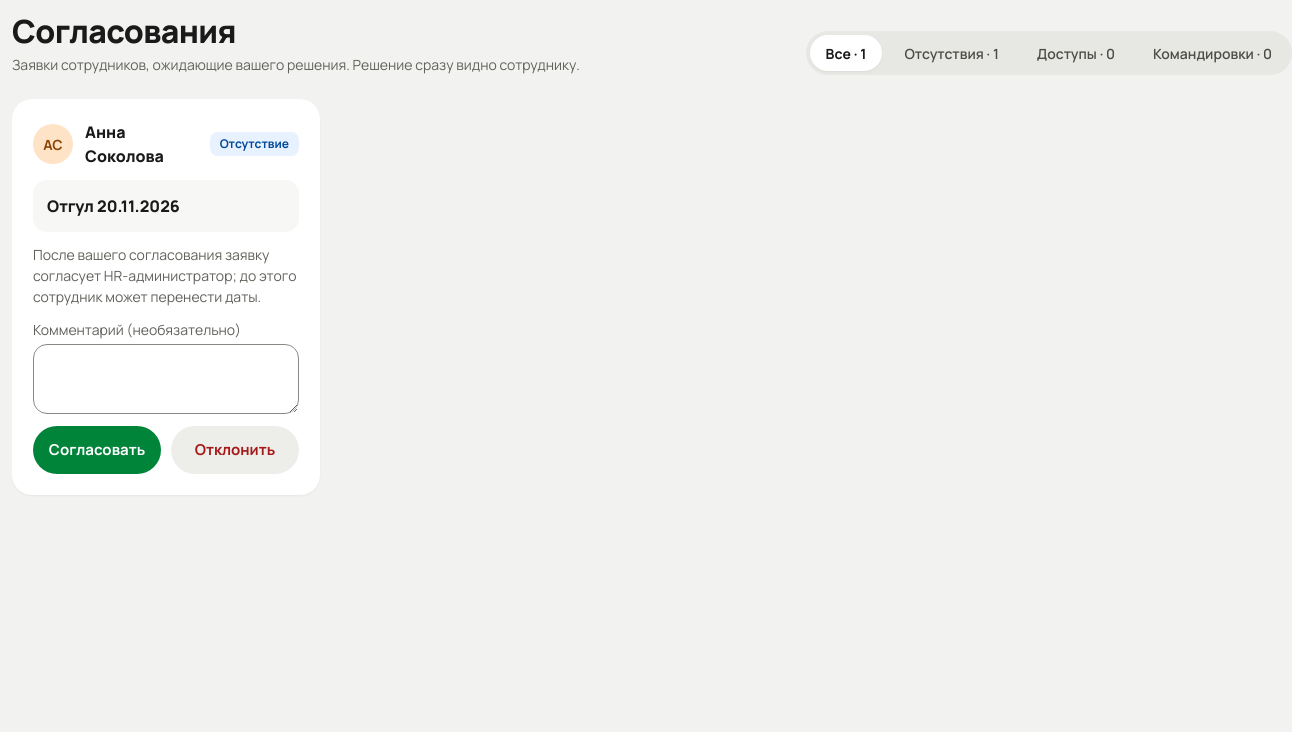
Scenario: S3 step 8: manager approvals page › S3: a decision on an already decided request is a 409 shown to the lead
The image size is (1292, 732).
Click the button "Согласовать" at x=97, y=450, box [33,426,161,474]
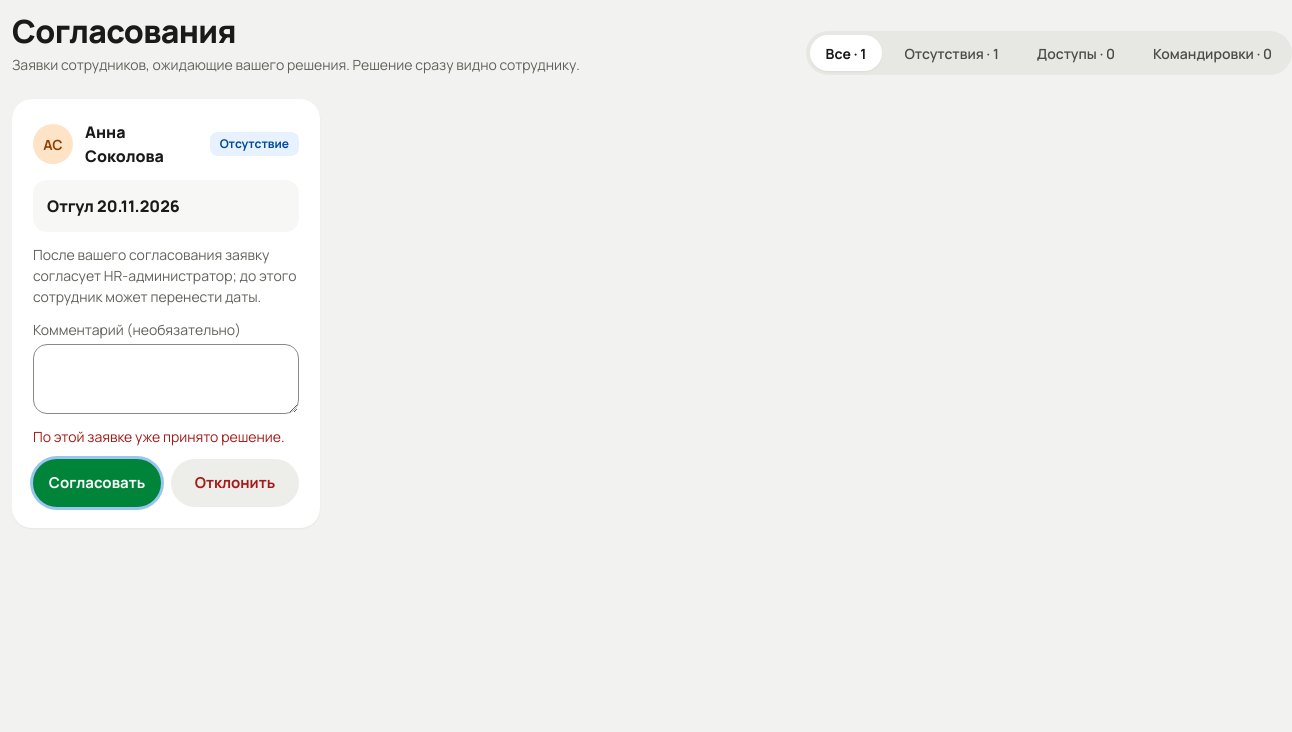
Expected: the text "По этой заявке уже принято решение." is shown, [33,426,299,447]
